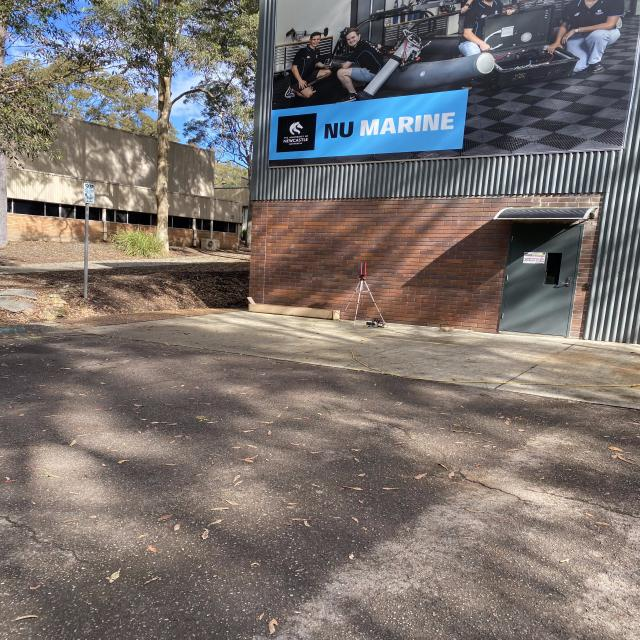matrix: (357, 262, 368, 276)
